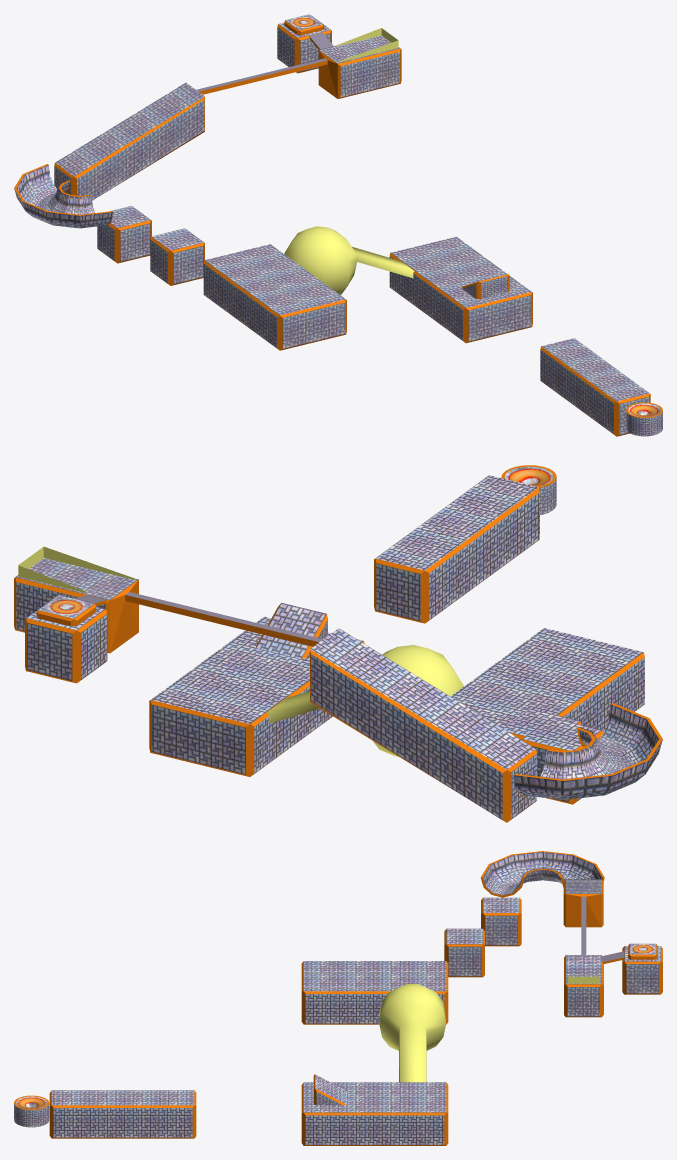
File: Level19.fbx
The picture shows the model from 3 angles, top to bottom: view 1: azimuth 30°, elevation 25°; view 2: azimuth 150°, elevation 25°; view 3: azimuth 270°, elevation 25°; orthographic projection. The views are drawn at different scales.
Parts seen in each view (by area): view 1: Level19; view 2: Level19; view 3: Level19.
Part boxes in pixels (x1=…): Level19: x1=14, y1=14, x2=662, y2=436; Level19: x1=14, y1=465, x2=662, y2=822; Level19: x1=14, y1=851, x2=662, y2=1145.
Bounding box in the file's own units: 3490 × 1574 × 5304.
11 materials, 7 textured.
